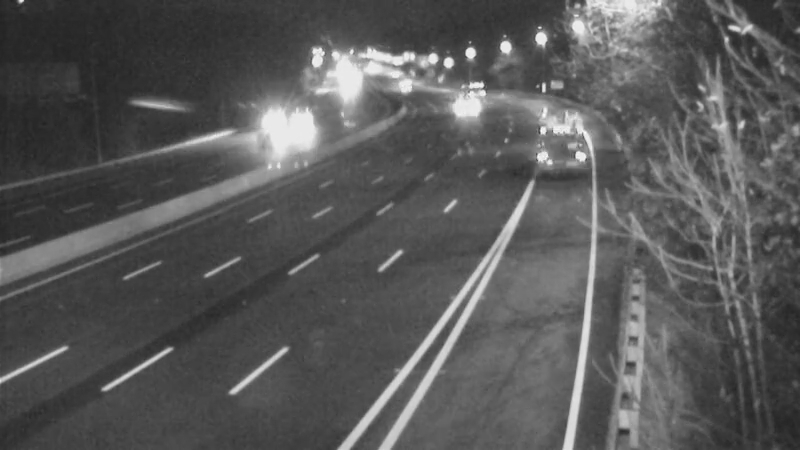vehicle: (449, 62, 499, 112), (445, 79, 495, 129), (530, 102, 580, 152), (244, 96, 294, 146), (278, 102, 328, 152)
